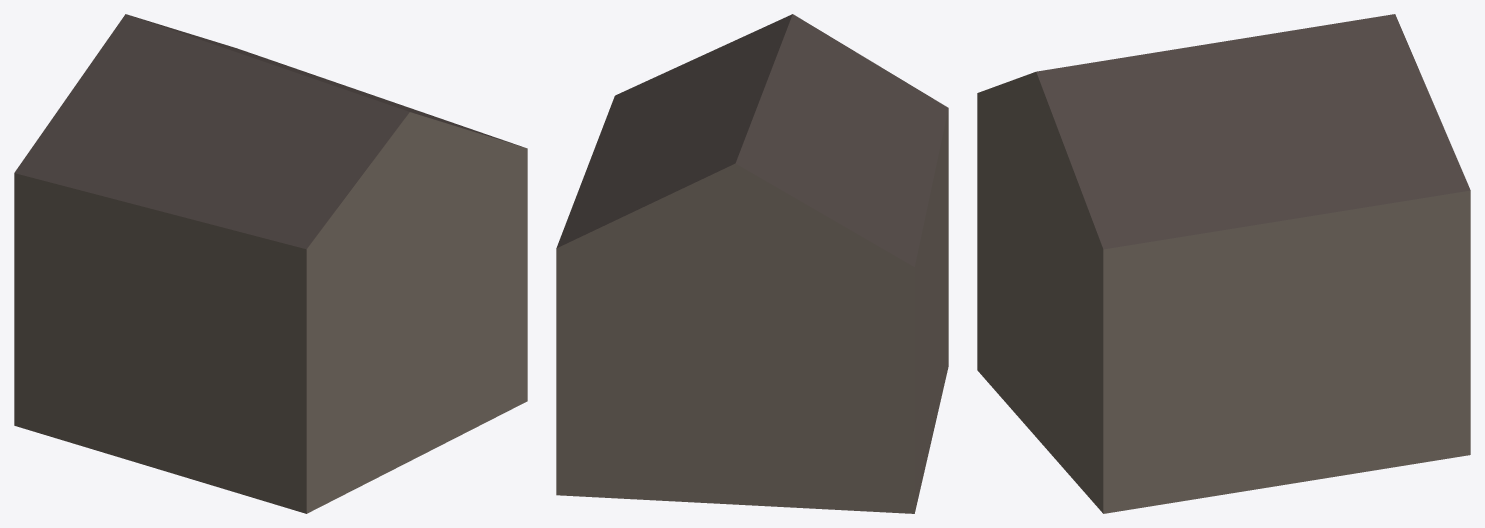
3 renders of one model, left to right at view 1: azimuth 30°, elevation 25°; view 2: azimuth 150°, elevation 25°; view 3: azimuth 270°, elevation 25°, orthographic. The views are drawn at different scales.
Parts seen in each view (by area): view 1: HP-w505659422; view 2: HP-w505659422; view 3: HP-w505659422.
Boxes of the visible parts, bbox=[...] form: HP-w505659422: bbox=[14, 14, 527, 513]; HP-w505659422: bbox=[556, 14, 948, 513]; HP-w505659422: bbox=[977, 14, 1470, 513].
Bounding box in the file's own units: 10.2 × 8.3 × 10.14.
